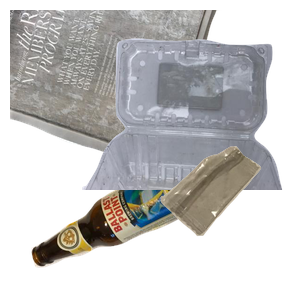glass: (29, 150, 238, 300)
paper: (10, 10, 222, 176)
plastic: (80, 36, 300, 216)
trash: (158, 144, 300, 300)
